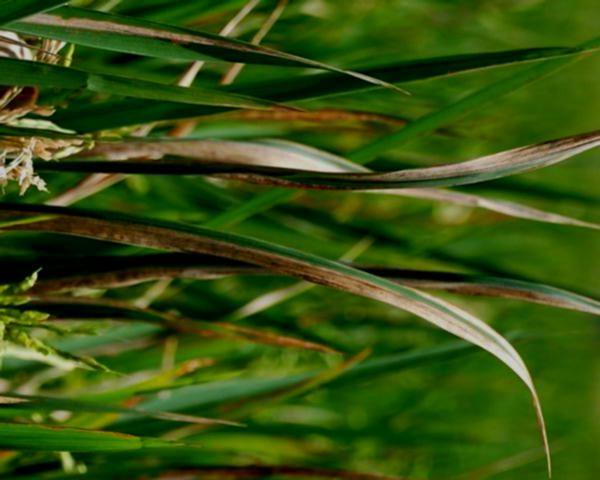2 BacterialBlight: (52, 211, 440, 326), (366, 130, 595, 208), (22, 11, 286, 57)
